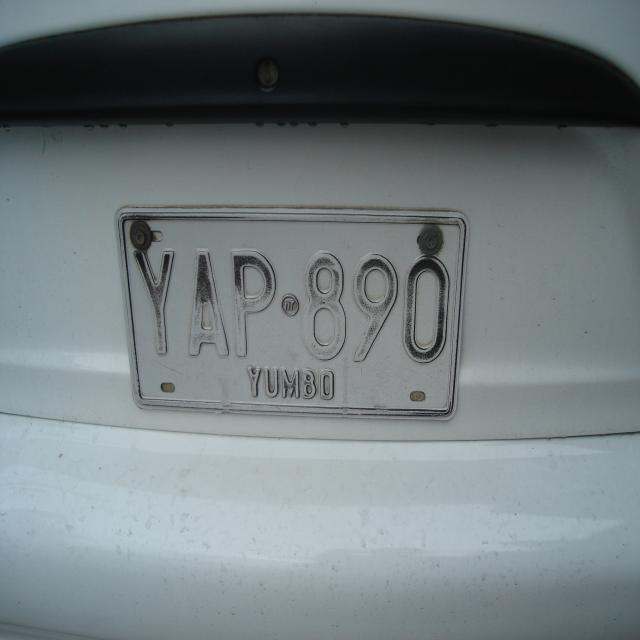placa: (110, 197, 473, 422)
